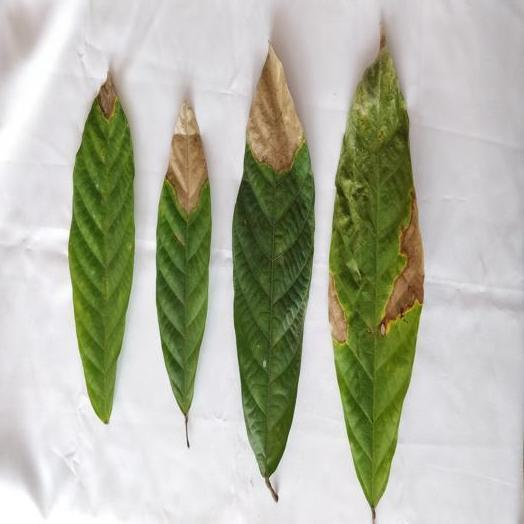Potassium: (329, 32, 423, 523), (233, 46, 314, 501), (68, 73, 134, 422), (157, 102, 211, 446)
